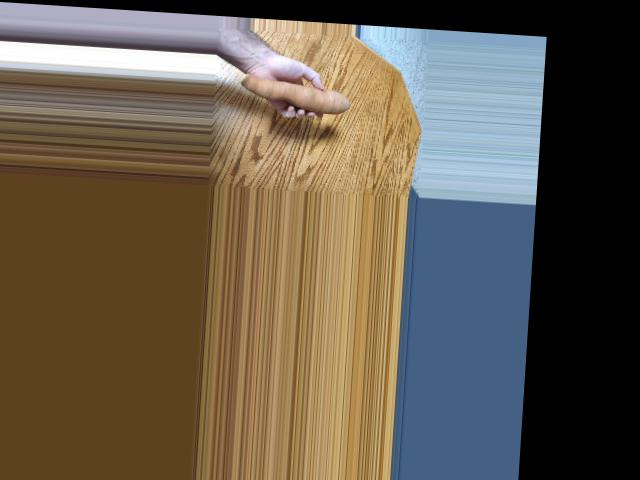sweet_potato: (244, 73, 351, 122)
